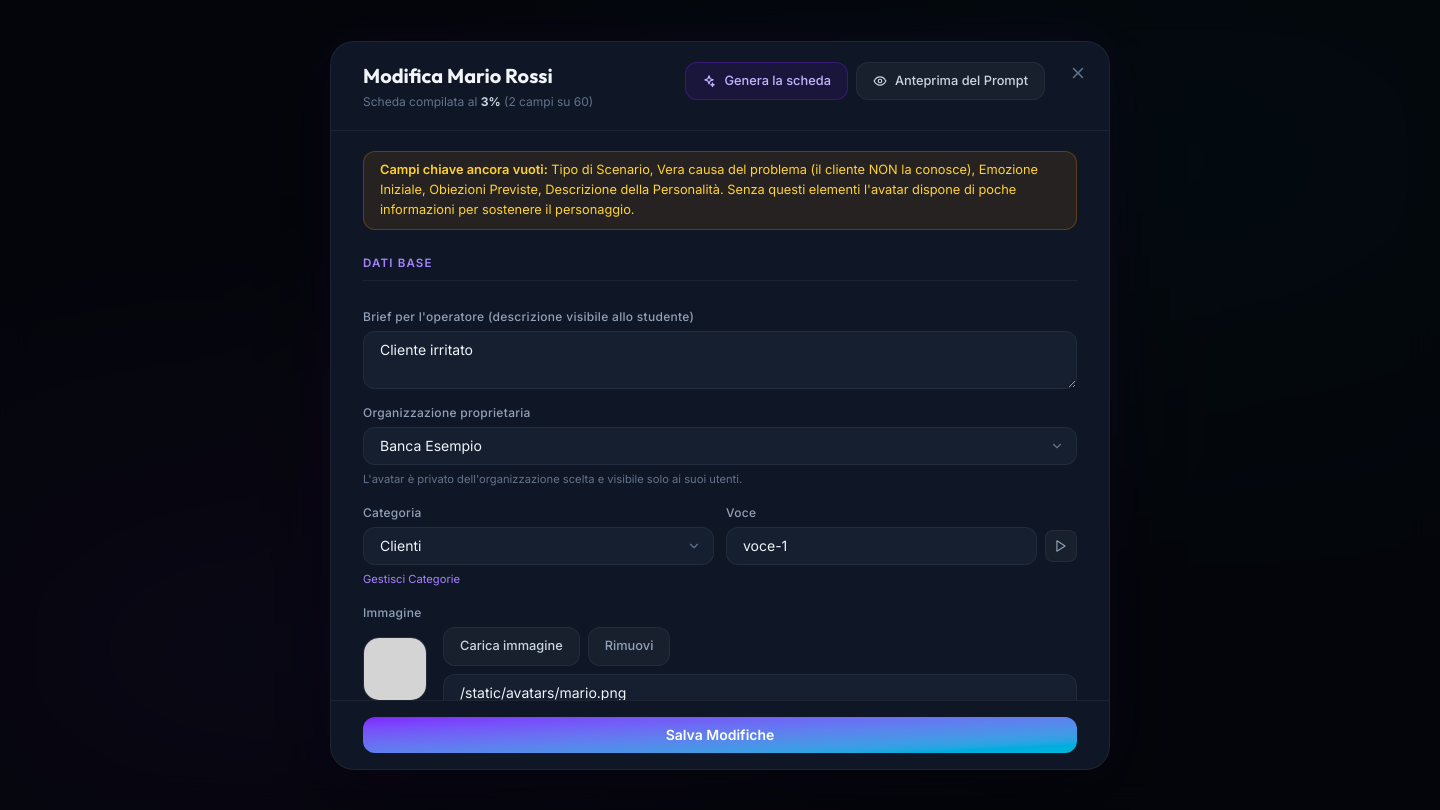
Scenario: l'anteprima di una voce › resta in ascolto finché la battuta non è finita
Click the button named "Ascolta Anteprima della Voce" at (1061, 546), box [1045,530,1077,562]
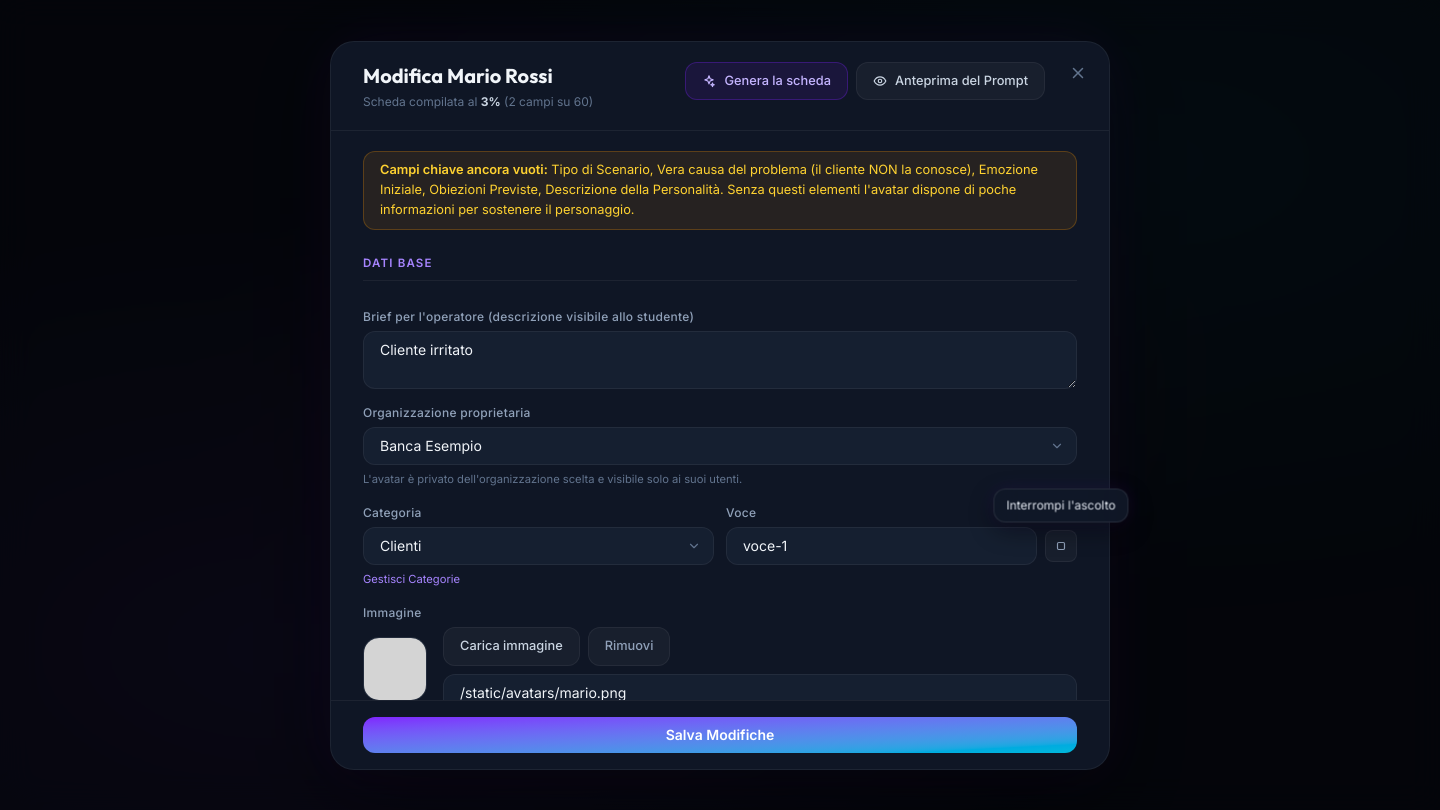
Result: the button named "Interrompi Anteprima della Voce" is shown at [1045,530,1077,562]
